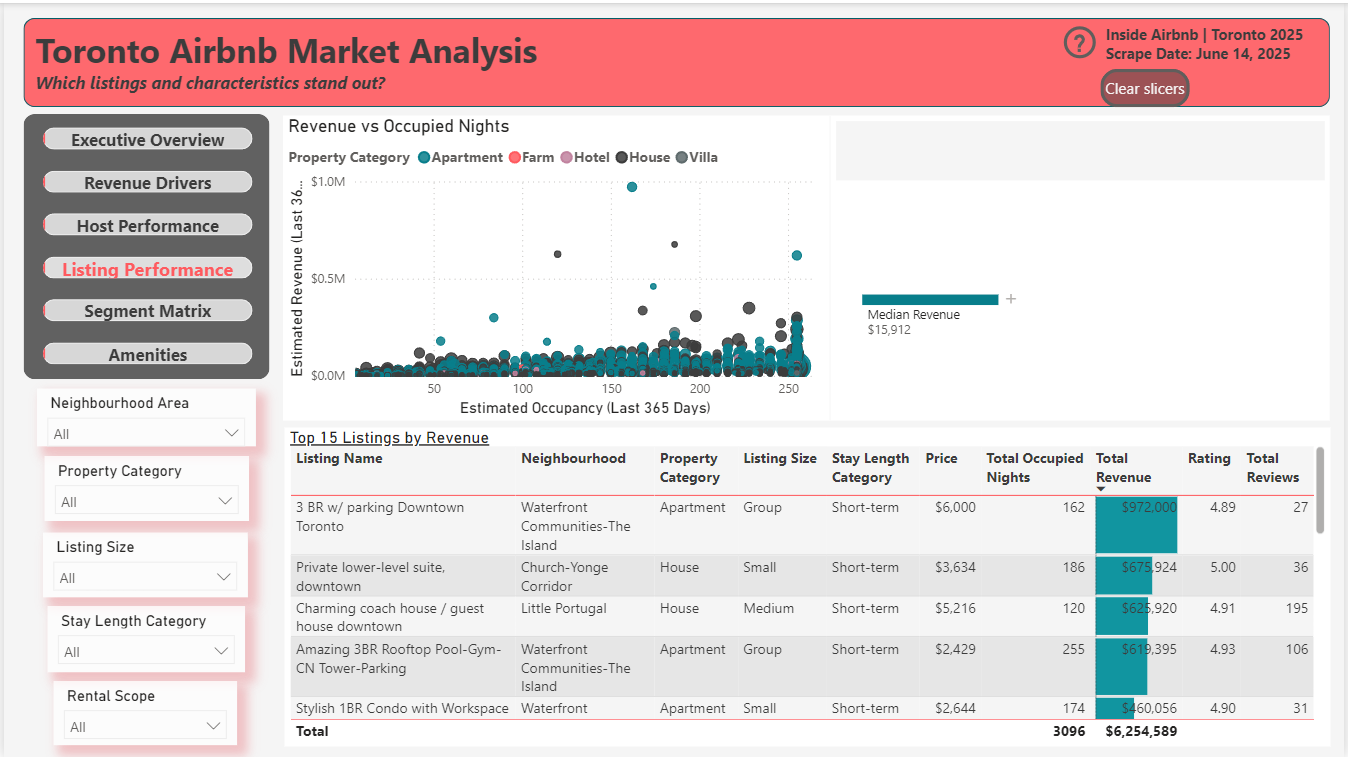

This screenshot's page, from the dashboard's own definition file:
{"tool":"powerbi","page":{"name":"Listing Performance","canvas":[1280,720],"ordinal":3},"visuals":[{"type":"shape","box":[18.3,106.7,235,253.3],"z":0},{"type":"shape","box":[18.2,14.2,1247.6,85.1],"z":1000},{"type":"textbox","box":[10,16.7,531.7,90],"z":2000},{"type":"textbox","box":[1047.5,14.6,218,47.2],"z":3000},{"type":"pageNavigator","box":[36.7,118.3,200,231],"z":4000},{"type":"actionButton","box":[1047.1,62.8,85.1,36.5],"z":5000},{"type":"slicer","fields":{"Values":["dim_neighbourhoods.Neighbourhood Area Hierarchy.Neighbourhood Area","dim_neighbourhoods.Neighbourhood Area Hierarchy.Neighbourhood Name"]},"box":[31.1,368.3,208.3,55],"z":6000},{"type":"slicer","fields":{"Values":["dim_classifications.Property Category"]},"box":[38.3,432.8,195,61.7],"z":7000},{"type":"slicer","fields":{"Values":["dim_classifications.Accommodation Size"]},"box":[37.8,505,195,61.7],"z":8000},{"type":"slicer","fields":{"Values":["dim_classifications.Stay Length Category"]},"box":[41.7,576.1,188.3,63.3],"z":9000},{"type":"slicer","fields":{"Values":["dim_classifications.Rental Scope"]},"box":[46.7,647.8,175,61],"z":10000},{"type":"scatterChart","title":"Revenue vs Occupied Nights","fields":{"Y":["fact_listings.Estimated Revenue (Last 365 Days)"],"X":["fact_listings.Estimated Occupancy (Last 365 Days)"],"Size":["Sum(fact_listings.Accommodates)"],"Series":["dim_classifications.Property Category"]},"box":[266.8,107.4,522.3,291.3],"z":11000},{"type":"decompositionTreeVisual","title":"Revenue vs Occupied Nights","fields":{"Analyze":["Measures List.Median Revenue"],"ExplainBy":["dim_classifications.Property Category","dim_neighbourhoods.Neighbourhood Area","dim_classifications.Accommodation Size","dim_classifications.Stay Length Category"]},"box":[789.2,107.4,476.7,291.3],"z":12000},{"type":"tableEx","title":"Top 15 Listings by Revenue","fields":{"Values":["fact_listings.Listing Name","dim_neighbourhoods.Neighbourhood Name","dim_classifications.Property Category","dim_classifications.Accommodation Size","dim_classifications.Stay Length Category","fact_listings.Price","Measures List.Total Occupancy","Measures List.Total Revenue","fact_listings.Overall Rating","fact_listings.Total Reviews"]},"box":[267.1,405.7,998.6,304.3],"z":13000},{"type":"actionButton","box":[1007.2,17.9,40.7,40.7],"z":14000}]}

Visuals, with their boxes on the page's 1280x720 design canvas (x1, y1, x2, y2). These are canvas units, not pixel positions in the 1348x757 screenshot, which may show the page scaled, cropped or inside an application window:
shape: (x1=18, y1=107, x2=253, y2=360)
shape: (x1=18, y1=14, x2=1266, y2=99)
textbox: (x1=10, y1=17, x2=542, y2=107)
textbox: (x1=1048, y1=15, x2=1266, y2=62)
pageNavigator: (x1=37, y1=118, x2=237, y2=349)
actionButton: (x1=1047, y1=63, x2=1132, y2=99)
slicer - dim_neighbourhoods.Neighbourhood Area Hierarchy.Neighbourhood Area x dim_neighbourhoods.Neighbourhood Area Hierarchy.Neighbourhood Name: (x1=31, y1=368, x2=239, y2=423)
slicer - dim_classifications.Property Category: (x1=38, y1=433, x2=233, y2=494)
slicer - dim_classifications.Accommodation Size: (x1=38, y1=505, x2=233, y2=567)
slicer - dim_classifications.Stay Length Category: (x1=42, y1=576, x2=230, y2=639)
slicer - dim_classifications.Rental Scope: (x1=47, y1=648, x2=222, y2=709)
"Revenue vs Occupied Nights" scatterChart: (x1=267, y1=107, x2=789, y2=399)
"Revenue vs Occupied Nights" decompositionTreeVisual: (x1=789, y1=107, x2=1266, y2=399)
"Top 15 Listings by Revenue" tableEx: (x1=267, y1=406, x2=1266, y2=710)
actionButton: (x1=1007, y1=18, x2=1048, y2=59)
